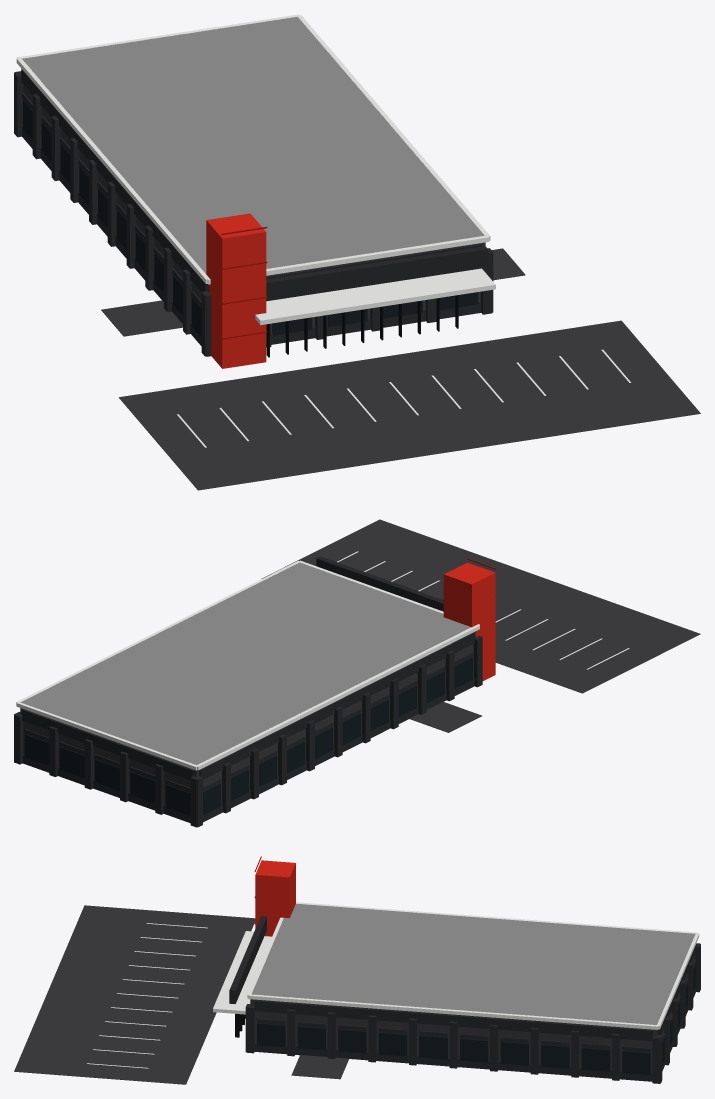
The model's file is mcd1.glb.
3 renders of one model, top to bottom at view 1: azimuth 30°, elevation 25°; view 2: azimuth 150°, elevation 25°; view 3: azimuth 270°, elevation 25°, orthographic. The views are drawn at different scales.
Parts seen in each view (by area): view 1: mcd1_lod0; view 2: mcd1_lod0; view 3: mcd1_lod0.
Part boxes in pixels (x1,y1,x2,y2): mcd1_lod0: (14,14,700,490); mcd1_lod0: (14,519,700,827); mcd1_lod0: (14,856,700,1084).
Size of what is drawn, in the model's own units: 33.97 by 8.94 by 55.02.
